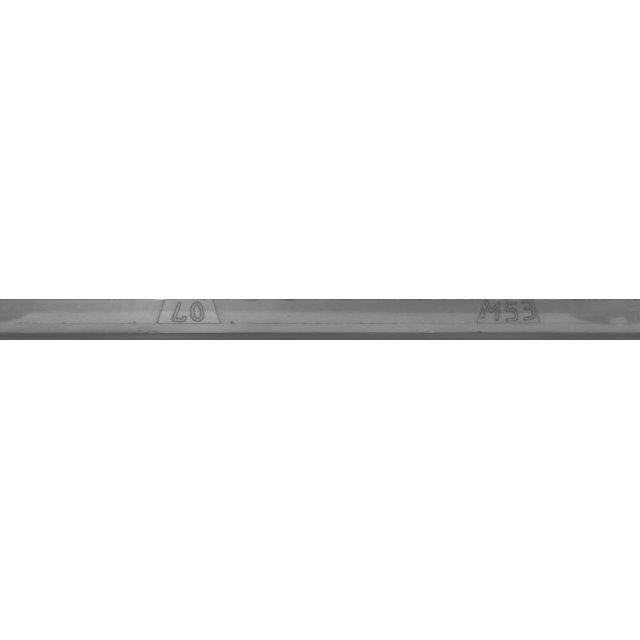mohao: (409, 270, 609, 370)
xuehao: (88, 270, 288, 370)
